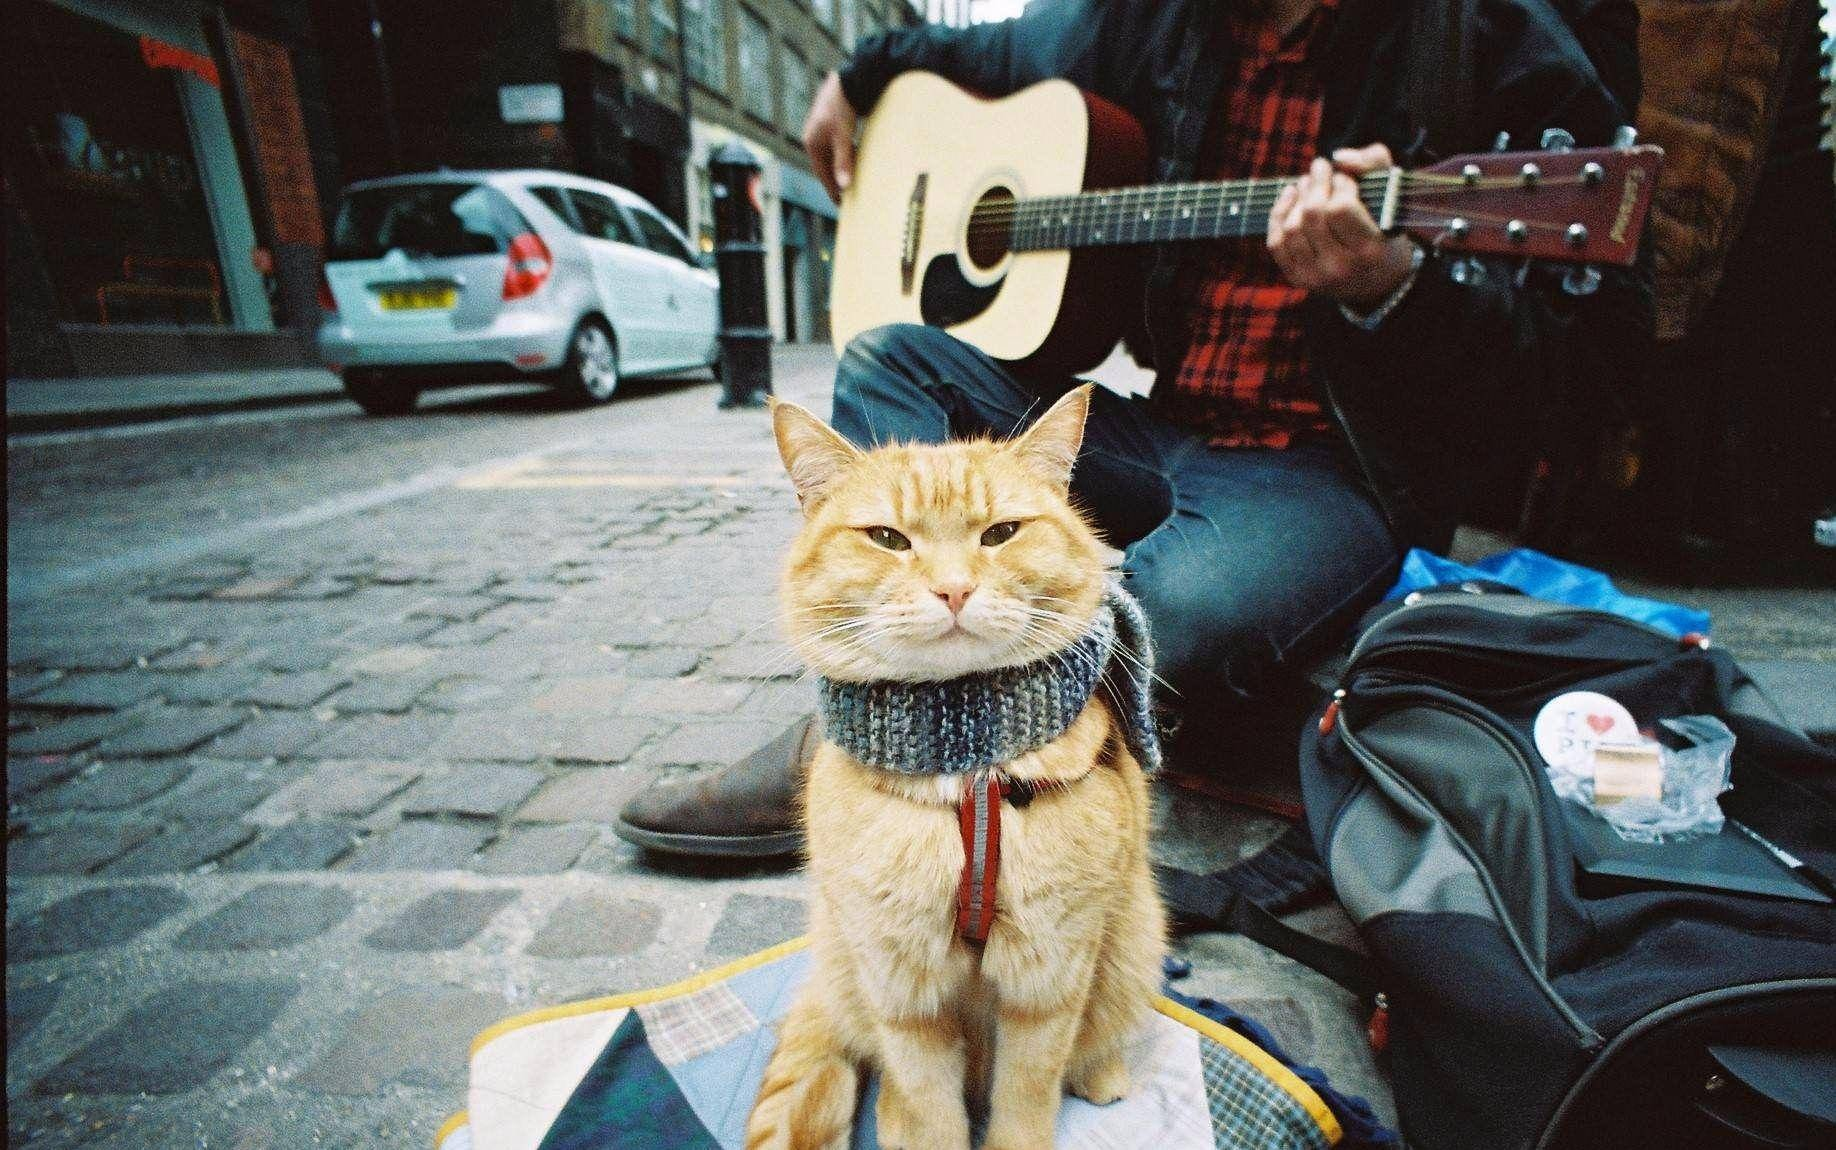cat: (737, 382, 1171, 1150)
